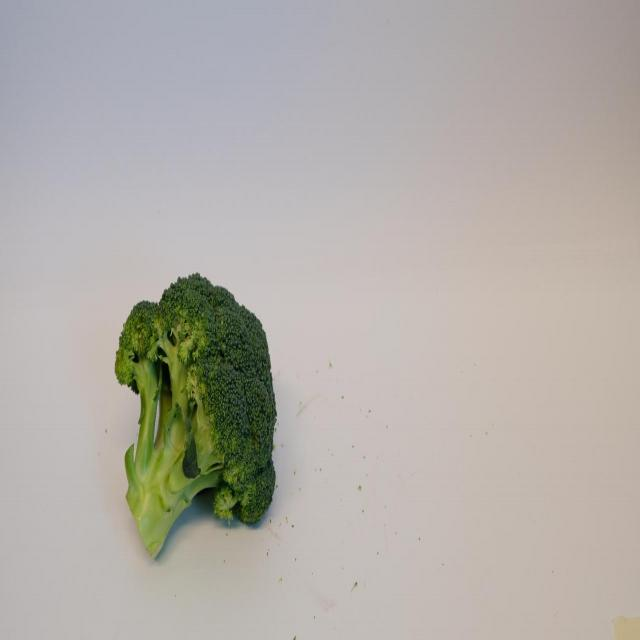broccoli: (116, 271, 277, 564)
